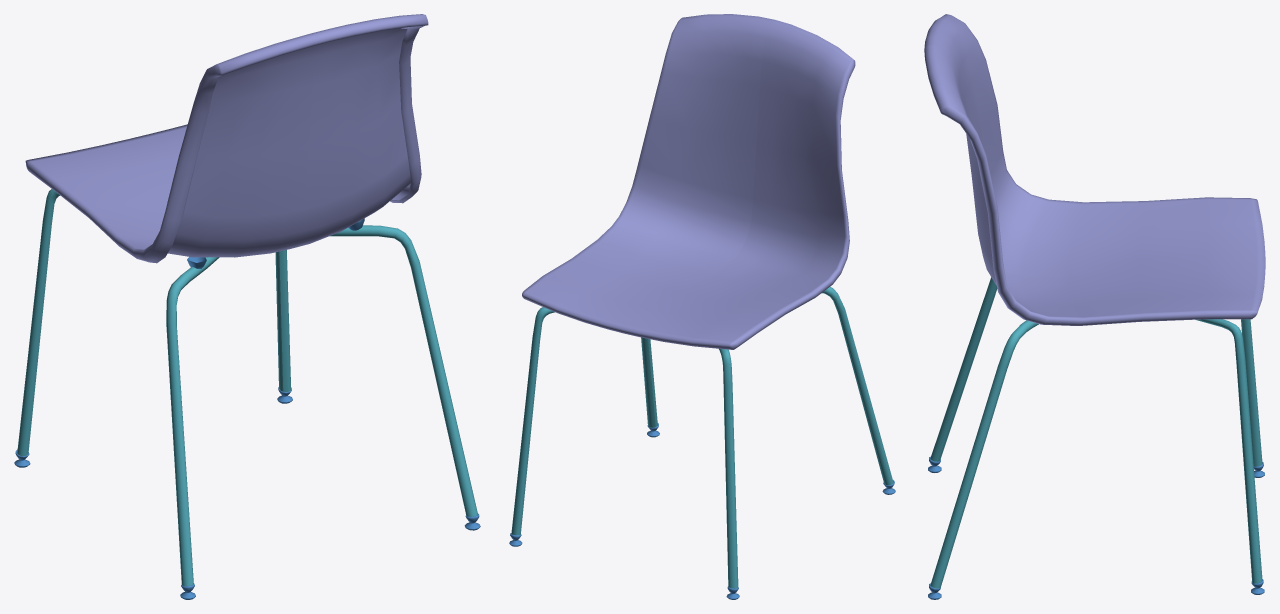
File: chair.fbx
The picture shows the model from 3 angles, left to right: view 1: azimuth 30°, elevation 25°; view 2: azimuth 150°, elevation 25°; view 3: azimuth 270°, elevation 25°; orthographic projection. The views are drawn at different scales.
Visible parts, largest first — view 1: chair; view 2: chair; view 3: chair.
Boxes of the visible parts, <box> form: chair: <box>14,14,480,599</box>; chair: <box>509,14,895,599</box>; chair: <box>924,14,1265,599</box>.
Size of the model in its own units: 39.6 by 67.79 by 42.97.
